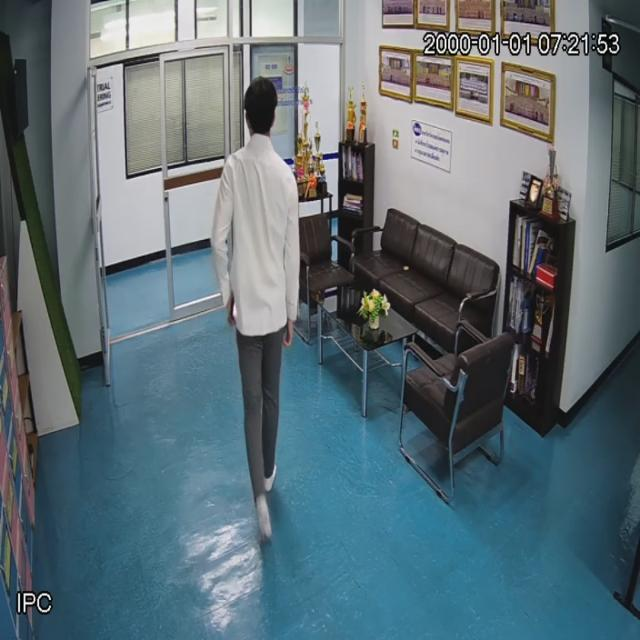normal: (211, 70, 302, 556)
